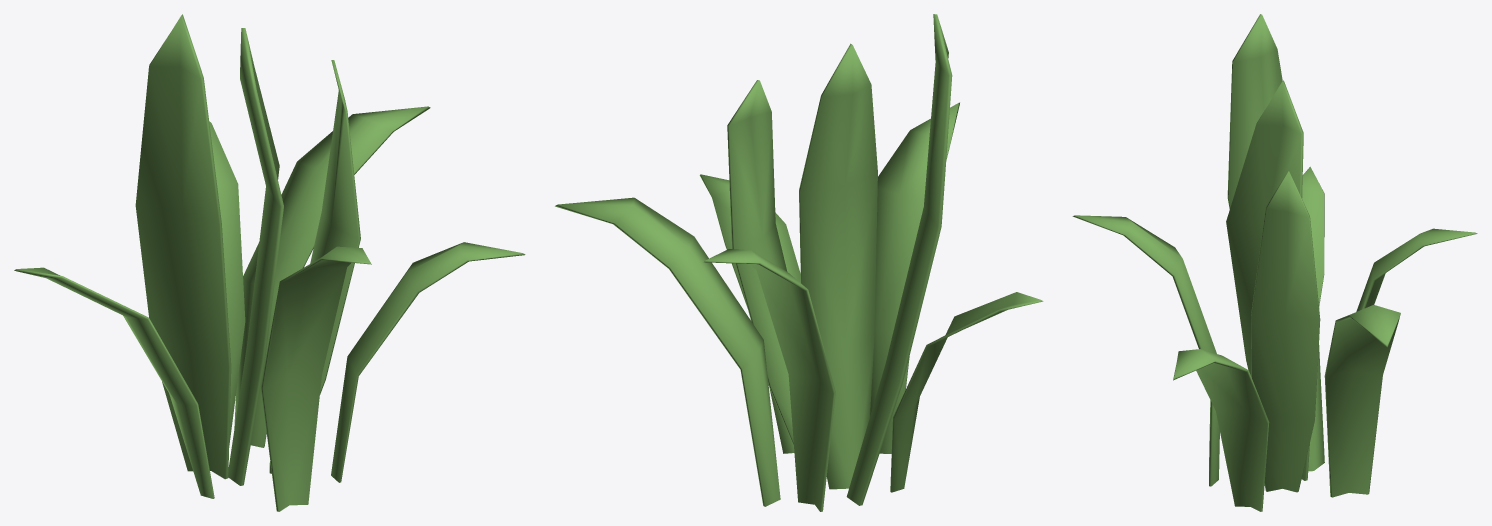
File: GrassyPlant2.fbx
The picture shows the model from 3 angles, left to right: view 1: azimuth 30°, elevation 25°; view 2: azimuth 150°, elevation 25°; view 3: azimuth 270°, elevation 25°; orthographic projection. The views are drawn at different scales.
Parts seen in each view (by area): view 1: grassyplant2; view 2: grassyplant2; view 3: grassyplant2.
Part boxes in pixels (bbox=[...]): grassyplant2: bbox=[14, 14, 525, 511]; grassyplant2: bbox=[555, 14, 1043, 511]; grassyplant2: bbox=[1072, 14, 1477, 511].
Size of the model in its own units: 98.7 by 101 by 85.89.
